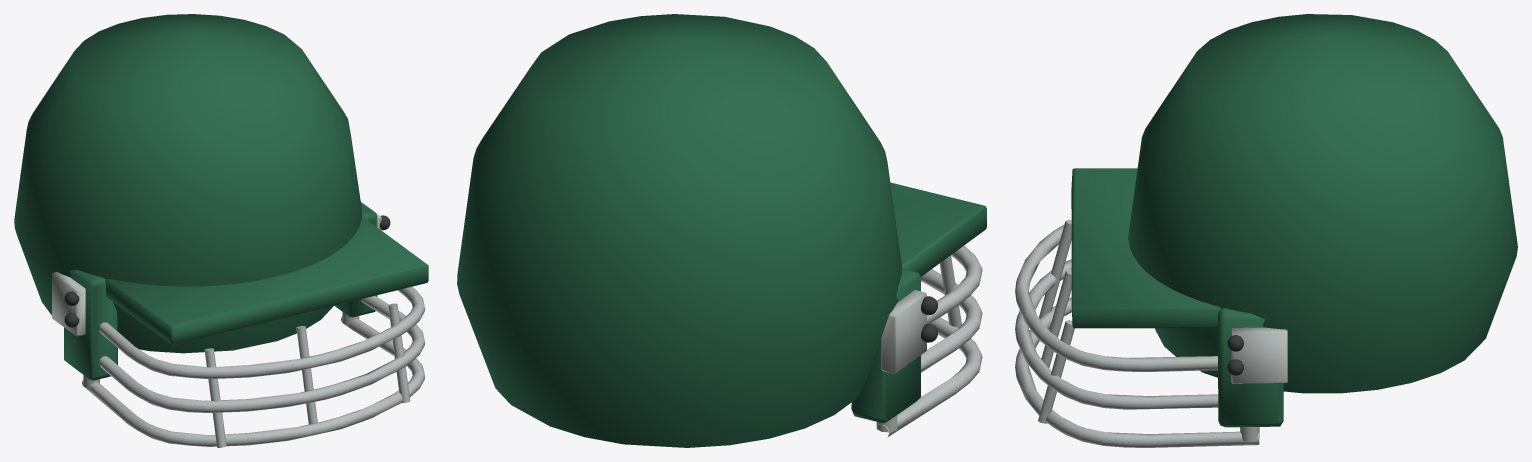
File: helmet.glb
3 views of the same model, side by side, from view 1: azimuth 30°, elevation 25°; view 2: azimuth 150°, elevation 25°; view 3: azimuth 270°, elevation 25° (orthographic). The views are drawn at different scales.
Parts seen in each view (by area): view 1: cricket-helmet; view 2: cricket-helmet; view 3: cricket-helmet.
Boxes of the visible parts, x1,y1,x2,y2 form: cricket-helmet: (14, 14, 428, 447); cricket-helmet: (457, 14, 986, 447); cricket-helmet: (1015, 14, 1517, 447).
Size of the model in its own units: 0.2999 by 0.265 by 0.36.
